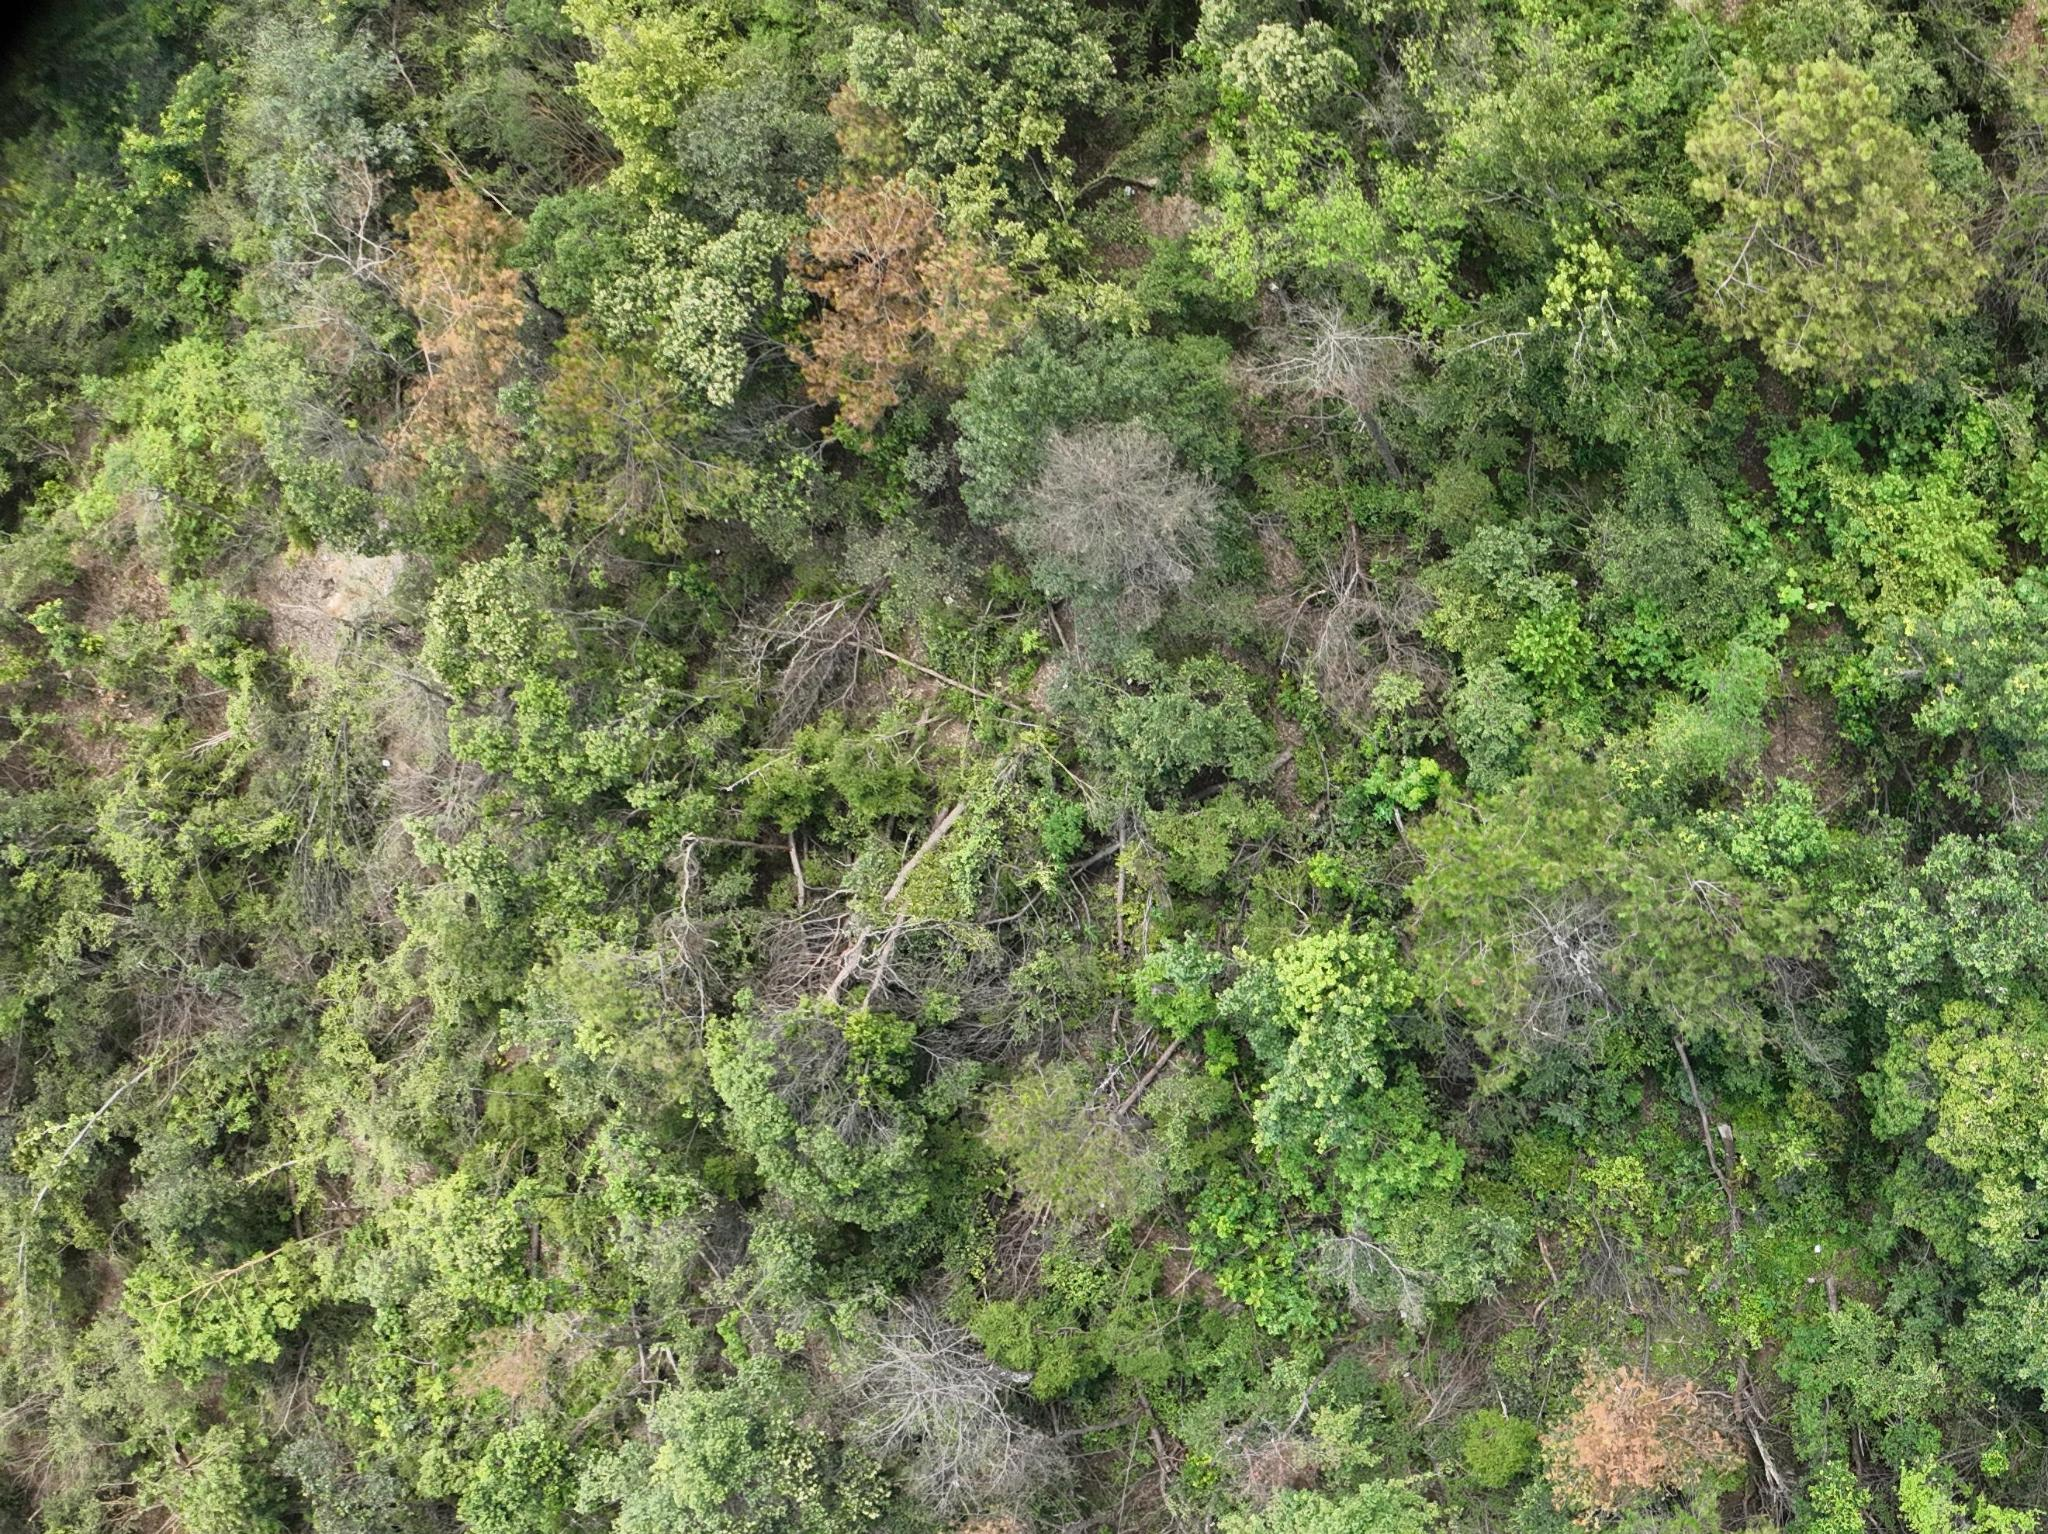dead: (1017, 429, 1217, 617), (860, 1331, 1051, 1502), (1281, 551, 1423, 694), (1273, 303, 1412, 424)
heavy: (781, 176, 996, 422), (392, 190, 511, 480), (1539, 1362, 1740, 1507)
light: (535, 327, 704, 527)
